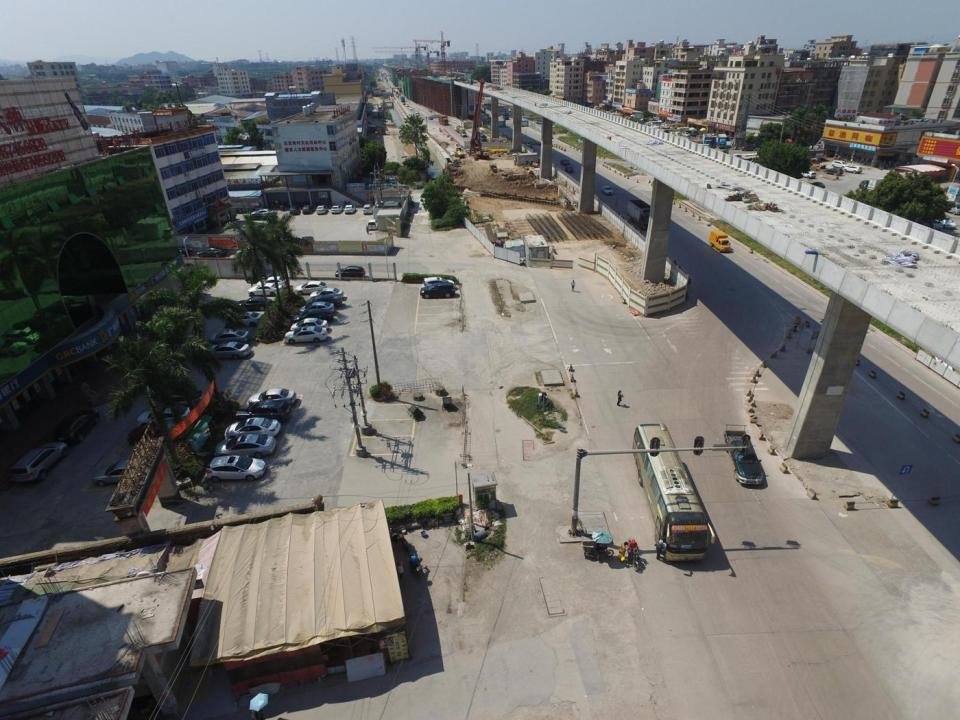bus: (633, 424, 708, 562)
car: (10, 440, 67, 485), (56, 407, 101, 447), (89, 459, 149, 486), (207, 455, 266, 481), (216, 434, 276, 455), (235, 400, 291, 422), (224, 418, 281, 437), (138, 404, 195, 420), (285, 326, 328, 344), (152, 389, 207, 403), (246, 388, 296, 403), (208, 341, 250, 358), (232, 295, 276, 310), (227, 310, 266, 326), (294, 308, 333, 322), (420, 283, 456, 297), (208, 330, 250, 342), (307, 293, 342, 307), (290, 317, 329, 329), (300, 301, 335, 314), (295, 280, 327, 294), (310, 287, 344, 300), (335, 265, 367, 278), (248, 284, 285, 295), (422, 276, 454, 287), (236, 246, 273, 255), (256, 276, 288, 286), (198, 247, 228, 256), (925, 215, 944, 229), (797, 166, 816, 178), (172, 247, 194, 257), (250, 209, 274, 216), (825, 167, 843, 176), (806, 181, 824, 189), (860, 179, 873, 189), (368, 219, 378, 230), (523, 143, 534, 152), (601, 186, 613, 194), (566, 165, 574, 174), (562, 159, 569, 166), (691, 130, 698, 136), (430, 116, 434, 121), (409, 107, 413, 110), (406, 104, 410, 107), (416, 111, 418, 114), (402, 103, 405, 104)
truck: (470, 79, 493, 160)
van: (724, 424, 763, 485), (709, 230, 732, 252), (869, 177, 895, 190), (702, 132, 713, 150), (716, 133, 728, 148), (842, 164, 862, 172), (438, 113, 449, 125), (477, 131, 488, 141), (831, 160, 848, 166), (459, 128, 467, 138), (682, 132, 691, 136), (400, 96, 406, 102)
